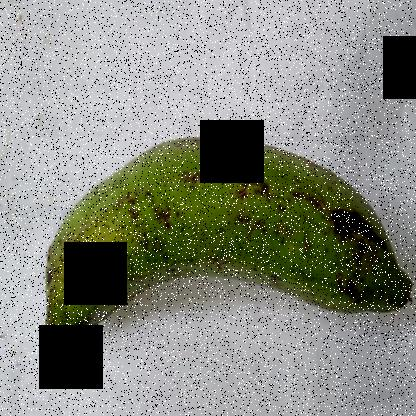rotten: (324, 196, 392, 284)
unripe: (32, 128, 416, 355)
